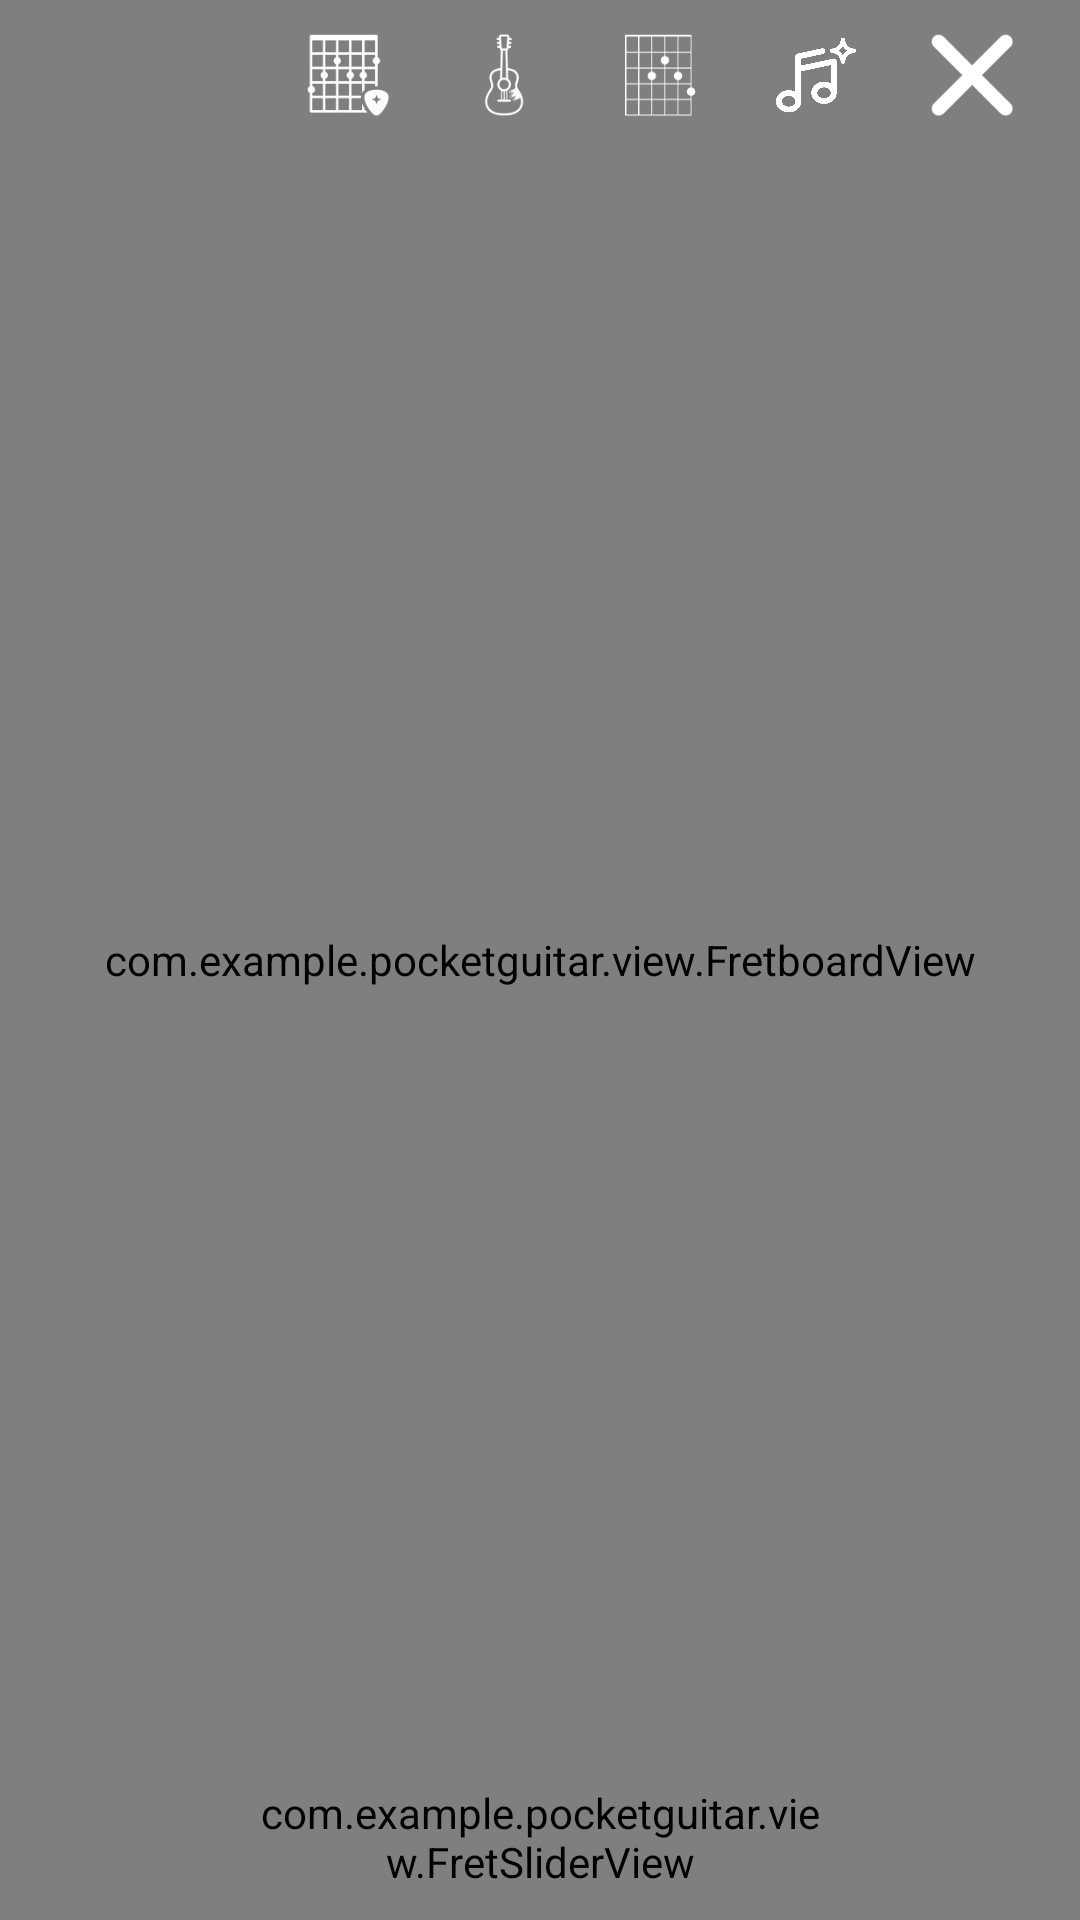

Where to tap for icons on this 1080x1920 app screen, as (x,y):
close: (972,75)
